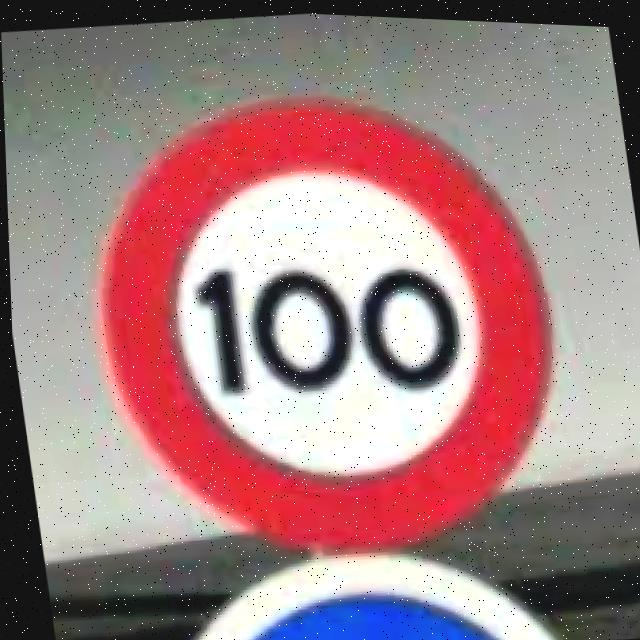max100: (62, 58, 581, 579)
